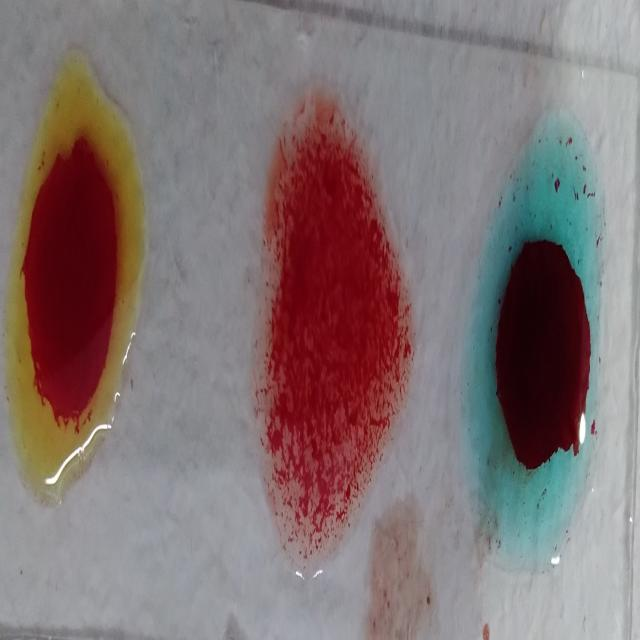A: (477, 106, 598, 544)
B: (11, 48, 138, 514)
D: (254, 94, 408, 576)
